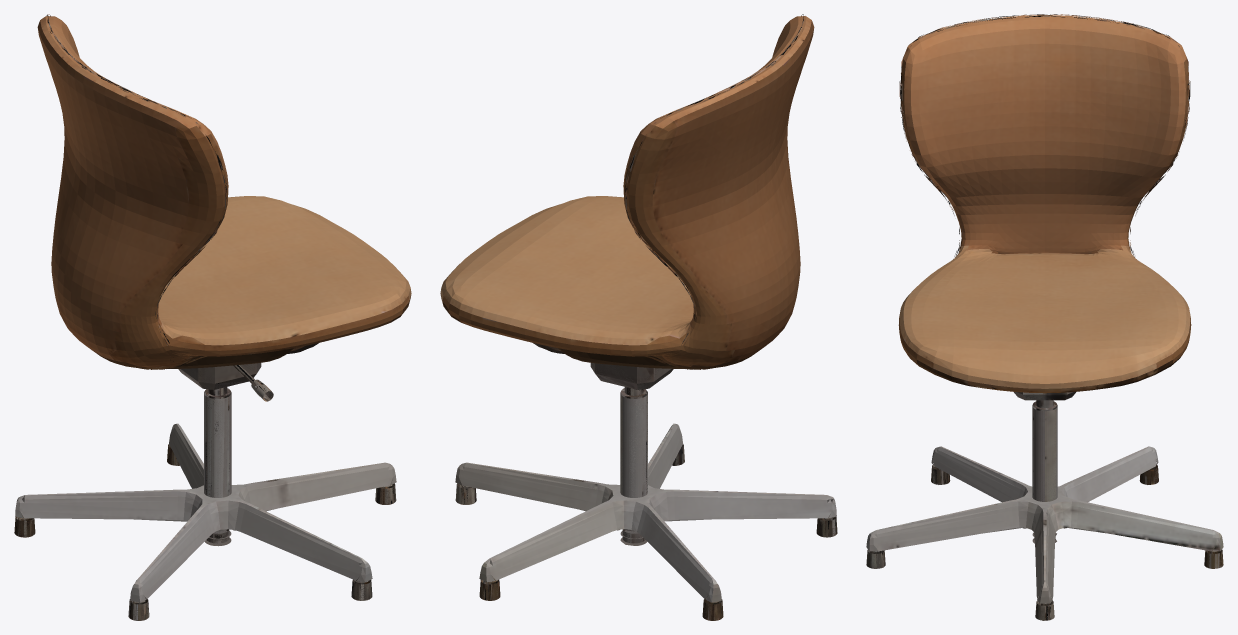
The picture shows the model from 3 angles, left to right: view 1: azimuth 30°, elevation 25°; view 2: azimuth 150°, elevation 25°; view 3: azimuth 270°, elevation 25°; orthographic projection. The views are drawn at different scales.
Visible parts, largest first — view 1: Node; view 2: Node; view 3: Node.
Part boxes in pixels (x1,y1,x2,y2): Node: (14,14,411,620); Node: (440,14,837,620); Node: (866,14,1223,620).
Size of the model in its own units: 0.4647 by 0.7 by 0.4848.
Materials: 1 (1 with a texture image).
